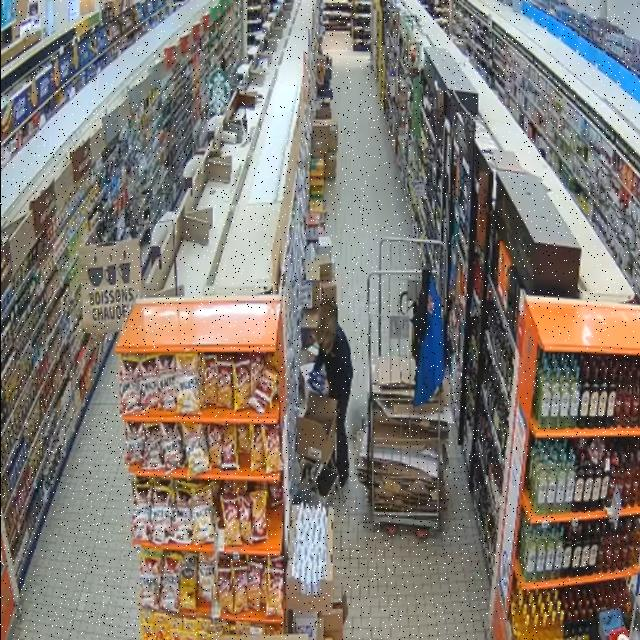article: (307, 376, 325, 395), (309, 371, 327, 383)
hands: (323, 380, 329, 397)
person: (314, 299, 353, 486)
